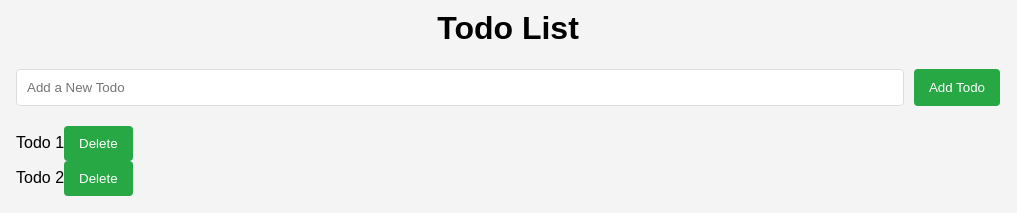
Todo List Component › Delete a Todo
The image size is (1017, 213).
Expected: the list item "Todo 1" is shown, [16,134,64,151]
Expected: the list item "Todo 2" is shown, [16,169,64,186]
Click the button "Delete" next to "Todo 1". click: x=98, y=143
box: [64,126,132,161]
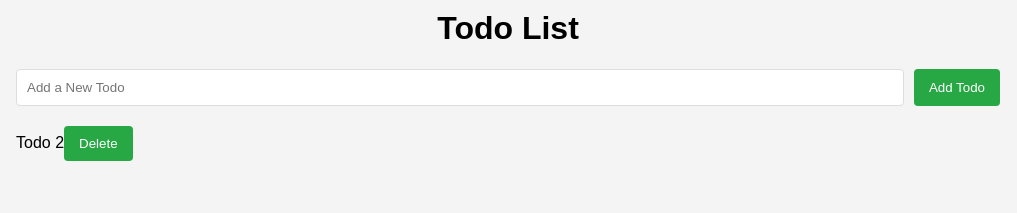
Expected: the list item "Todo 2" is shown, [16,134,64,151]
Expected: the list item "Todo 1" is gone
